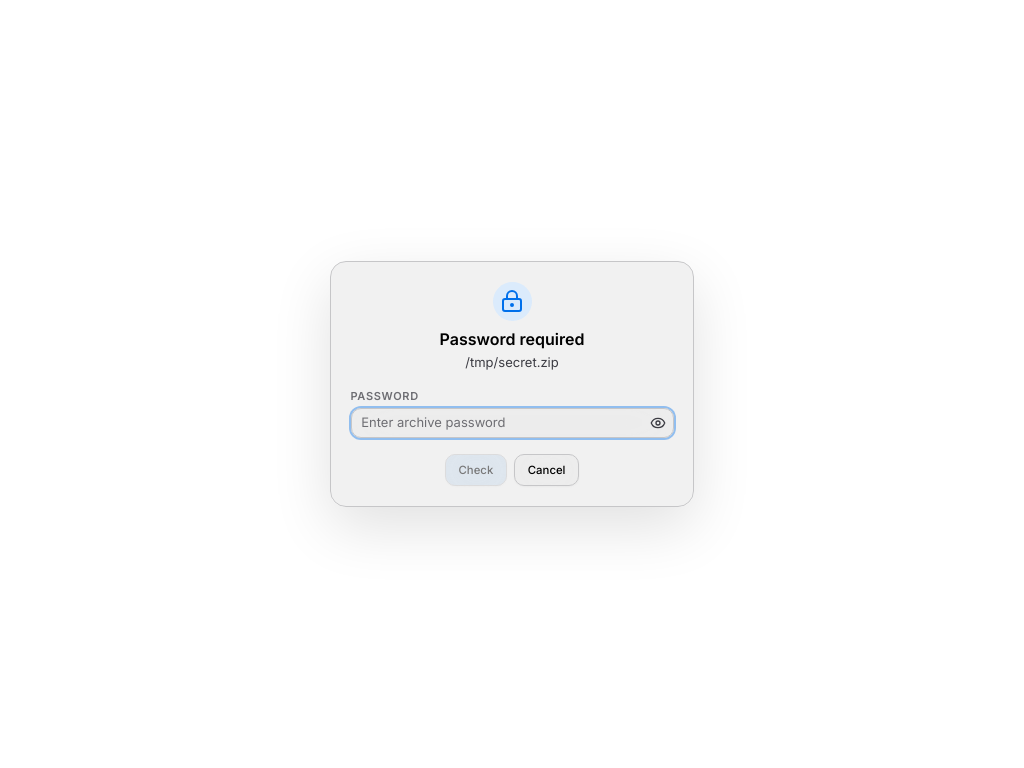
Scenario: PasswordDialog › should_require_a_password_before_checking
Check: the button "Check" is disabled, box [444,454,507,486]
Type "pw" into the password field labelled "Password" at (499, 423), box [352,413,646,433]
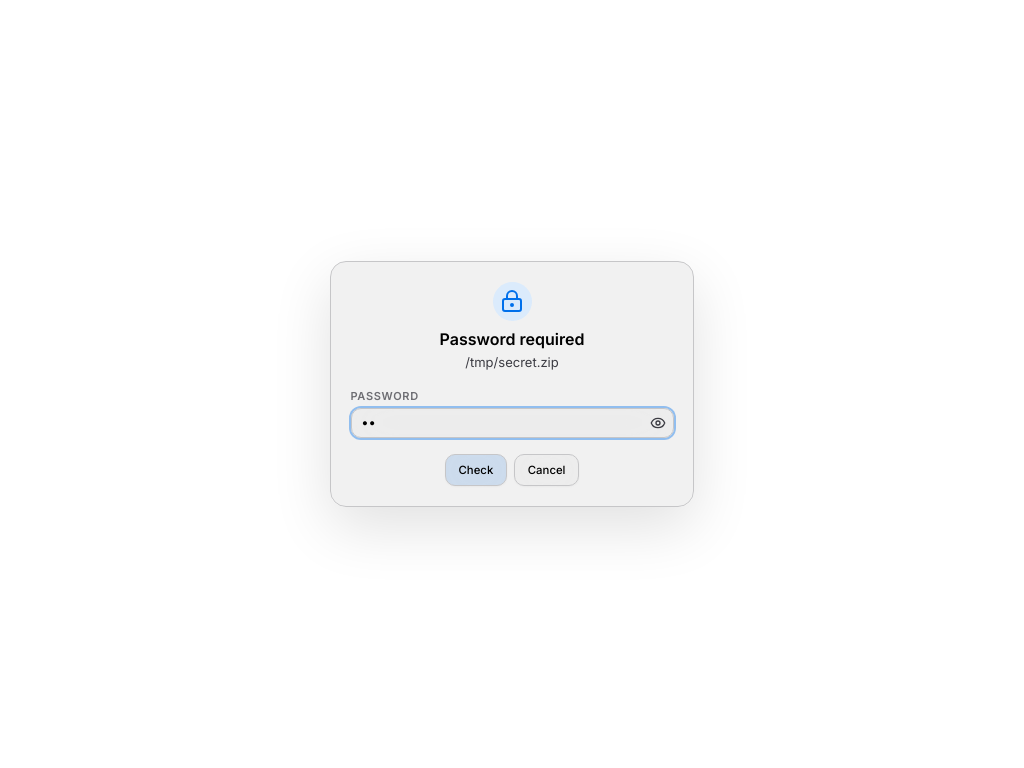
Check: the button "Check" is enabled, box [444,454,507,486]
